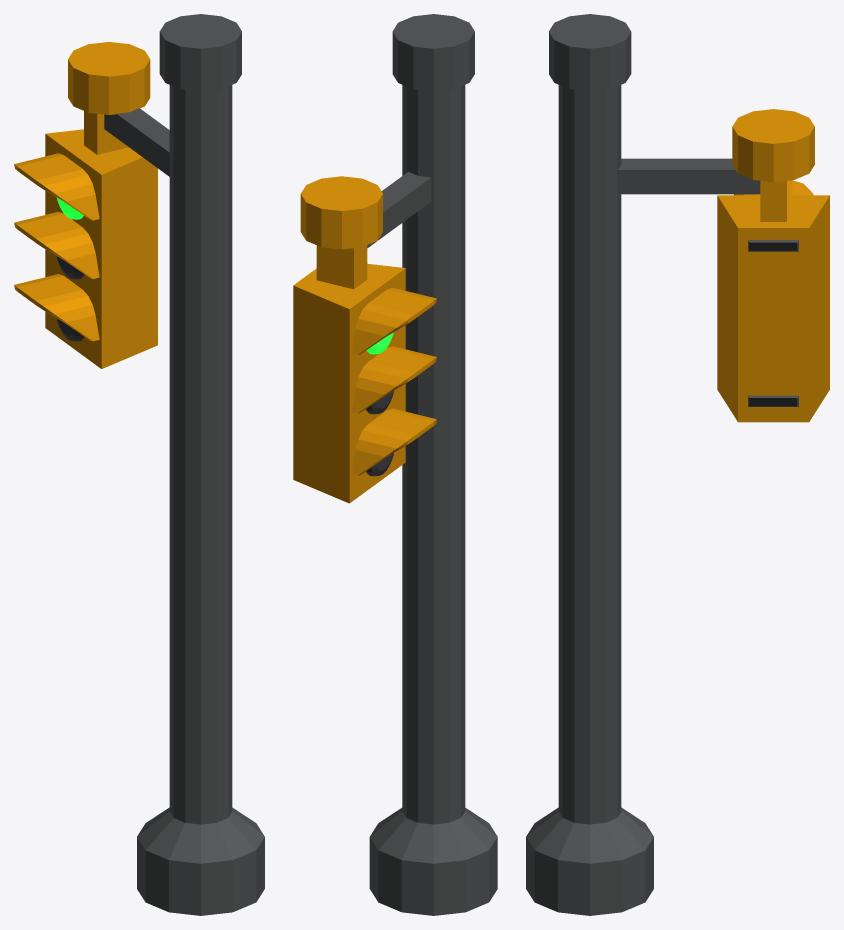
Rendered from SM_Traffic_Light_2.fbx.
3 renders of one model, left to right at view 1: azimuth 30°, elevation 25°; view 2: azimuth 150°, elevation 25°; view 3: azimuth 270°, elevation 25°, orthographic.
Visible parts, largest first — view 1: SM_Traffic_Light_2_LOD0; view 2: SM_Traffic_Light_2_LOD0; view 3: SM_Traffic_Light_2_LOD0.
Part boxes in pixels (box(x1,y1,x2,y2)): SM_Traffic_Light_2_LOD0: box(14, 14, 264, 915); SM_Traffic_Light_2_LOD0: box(293, 14, 497, 915); SM_Traffic_Light_2_LOD0: box(526, 14, 829, 915).
Bounding box in the file's own units: 101 × 193 × 602.
1 material, 1 textured.
